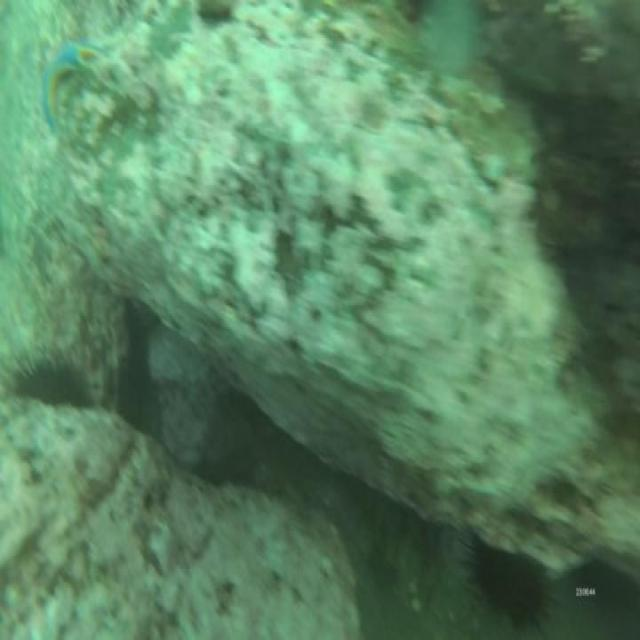echinus: (468, 529, 554, 629)
starfish: (39, 30, 96, 123)
